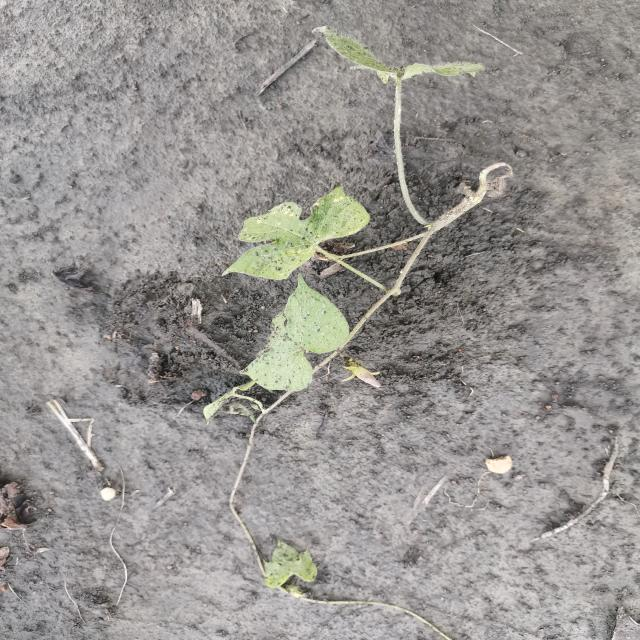MorningGlory: (200, 30, 519, 634)
